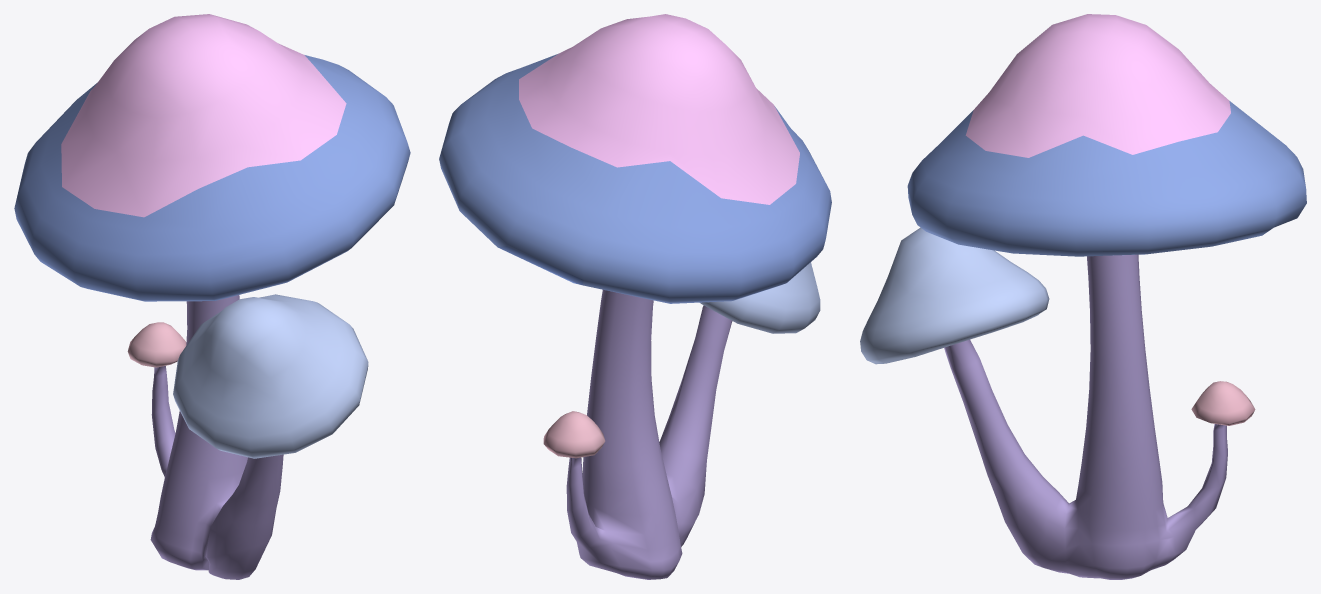
The model's file is mushroom 25.fbx.
3 views of the same model, side by side, from view 1: azimuth 30°, elevation 25°; view 2: azimuth 150°, elevation 25°; view 3: azimuth 270°, elevation 25° (orthographic).
Visible parts, largest first — view 1: Mushroom_0001_0025; view 2: Mushroom_0001_0025; view 3: Mushroom_0001_0025.
Boxes of the visible parts, bbox=[...] form: Mushroom_0001_0025: bbox=[14, 14, 410, 579]; Mushroom_0001_0025: bbox=[439, 14, 831, 579]; Mushroom_0001_0025: bbox=[860, 14, 1306, 579].
Bounding box in the file's own units: 25.68 × 39.47 × 29.48.
Materials: 1 (1 with a texture image).
